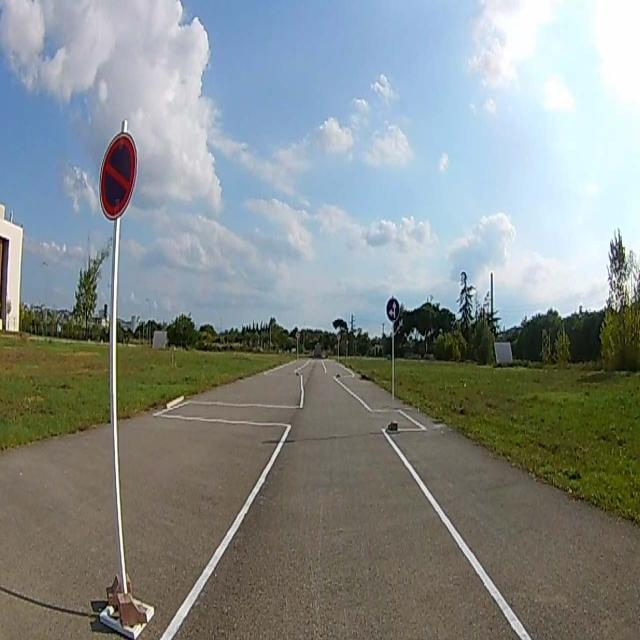ilerisol: (385, 298, 399, 322)
parkyasak: (100, 133, 136, 218)
